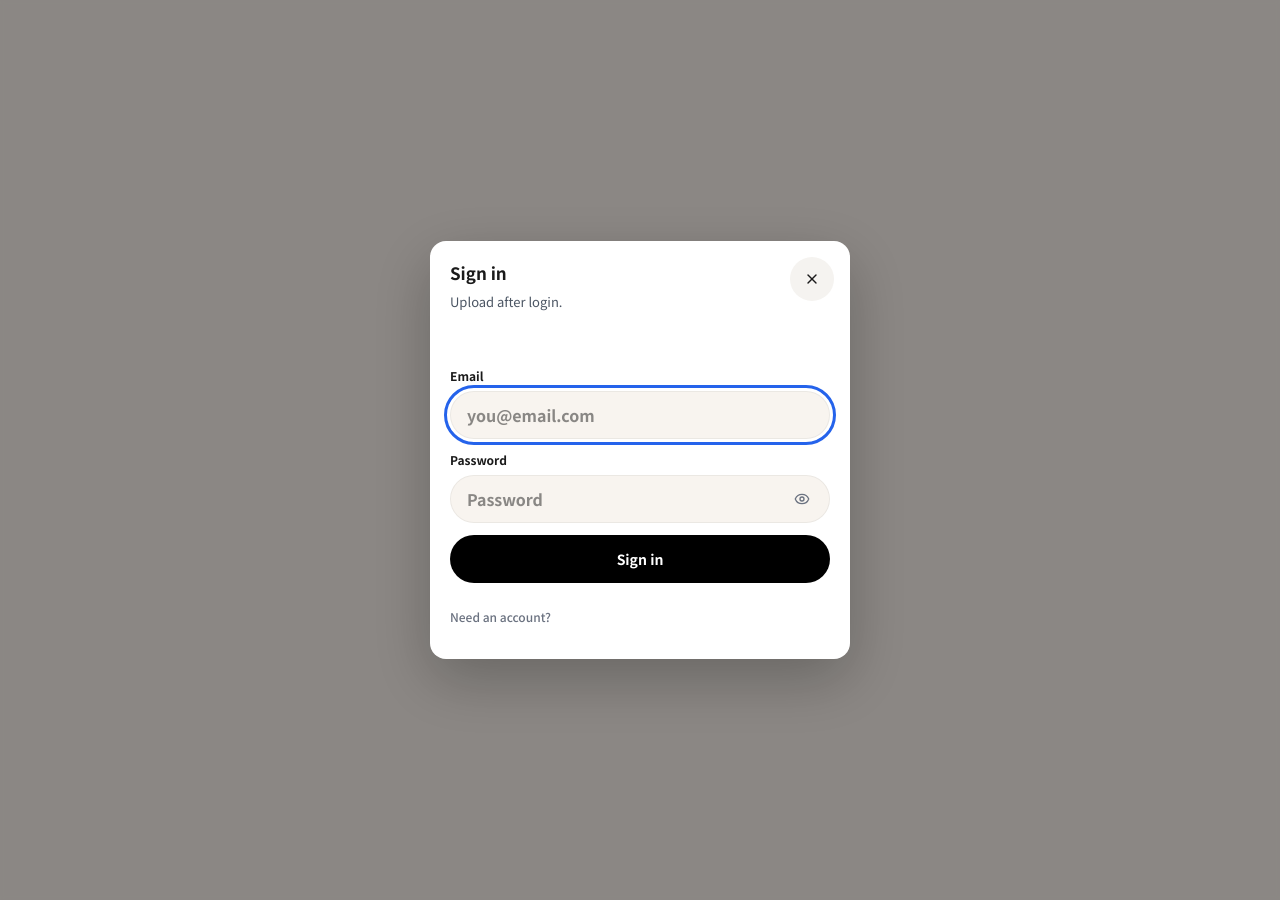
Test: LoginGateDialog focus stability › does not remount email when toggling password visibility
The image size is (1280, 900).
Type "a@b.co" into the field labelled "Email".
click(640, 415); type("a@b.co")  # box [450,391,830,439]
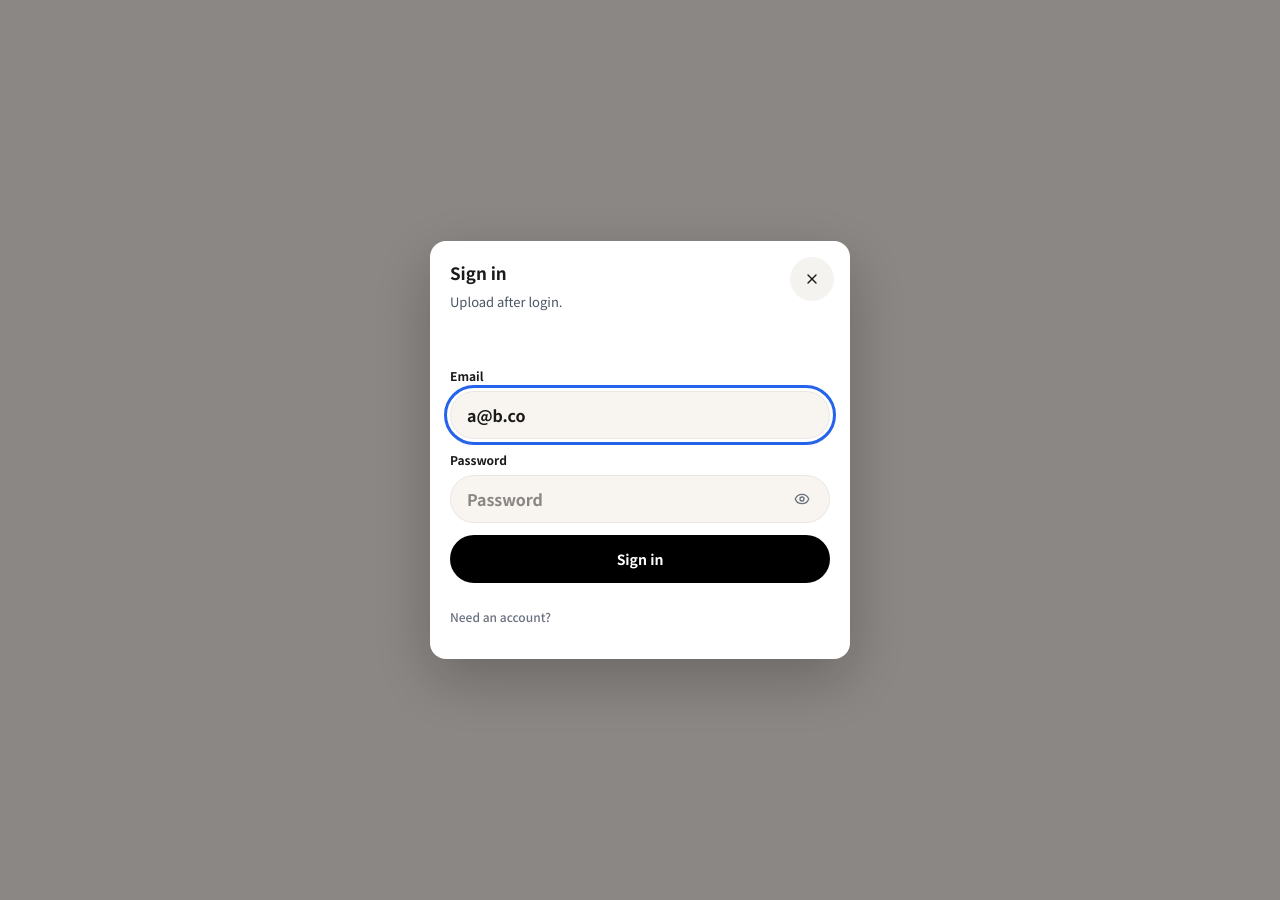
Type "secret1" into the password field labelled "Password".
click(640, 499); type("secret1")  # box [450,475,830,523]
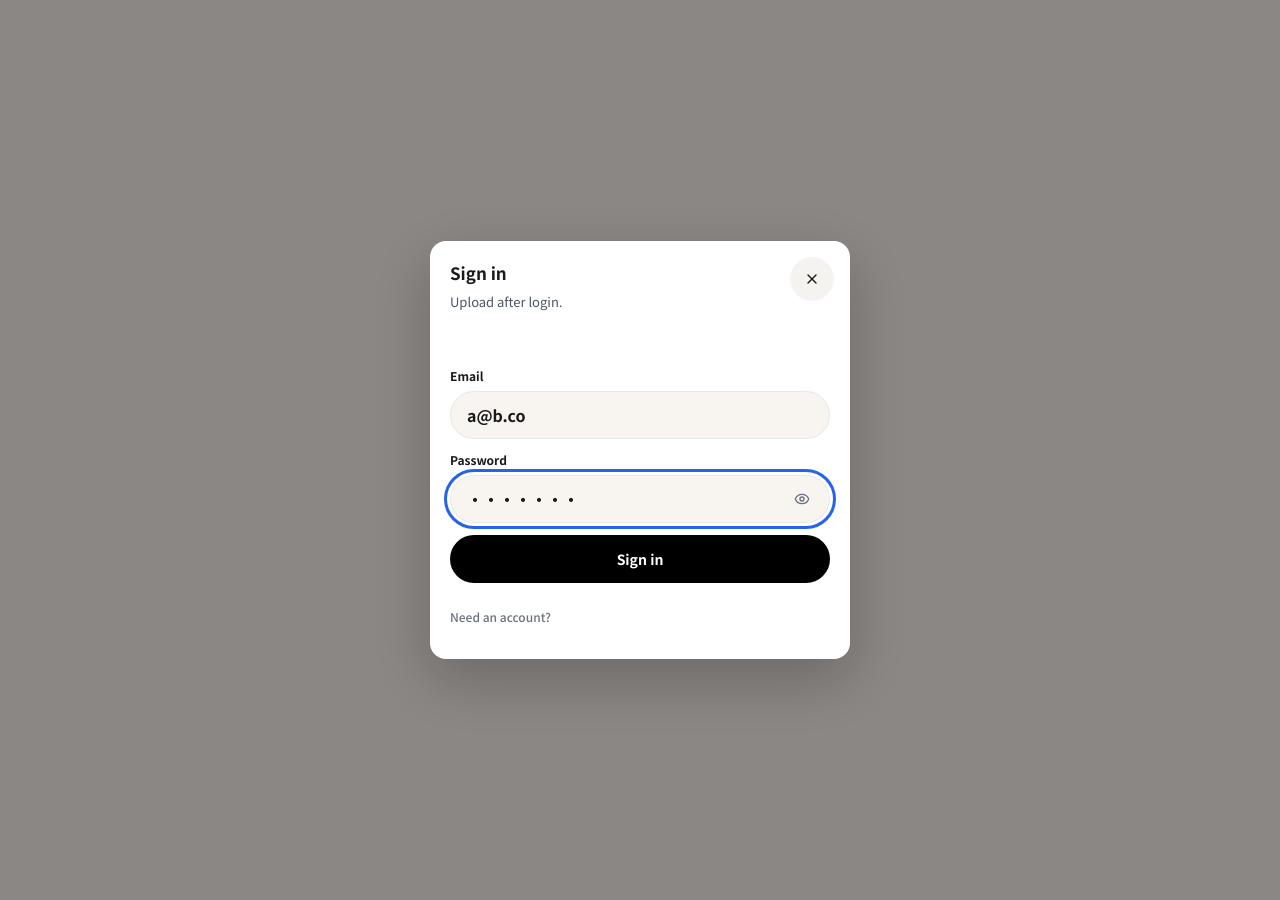
Click the button named "Show password".
click(802, 499)  # box [780,477,824,521]
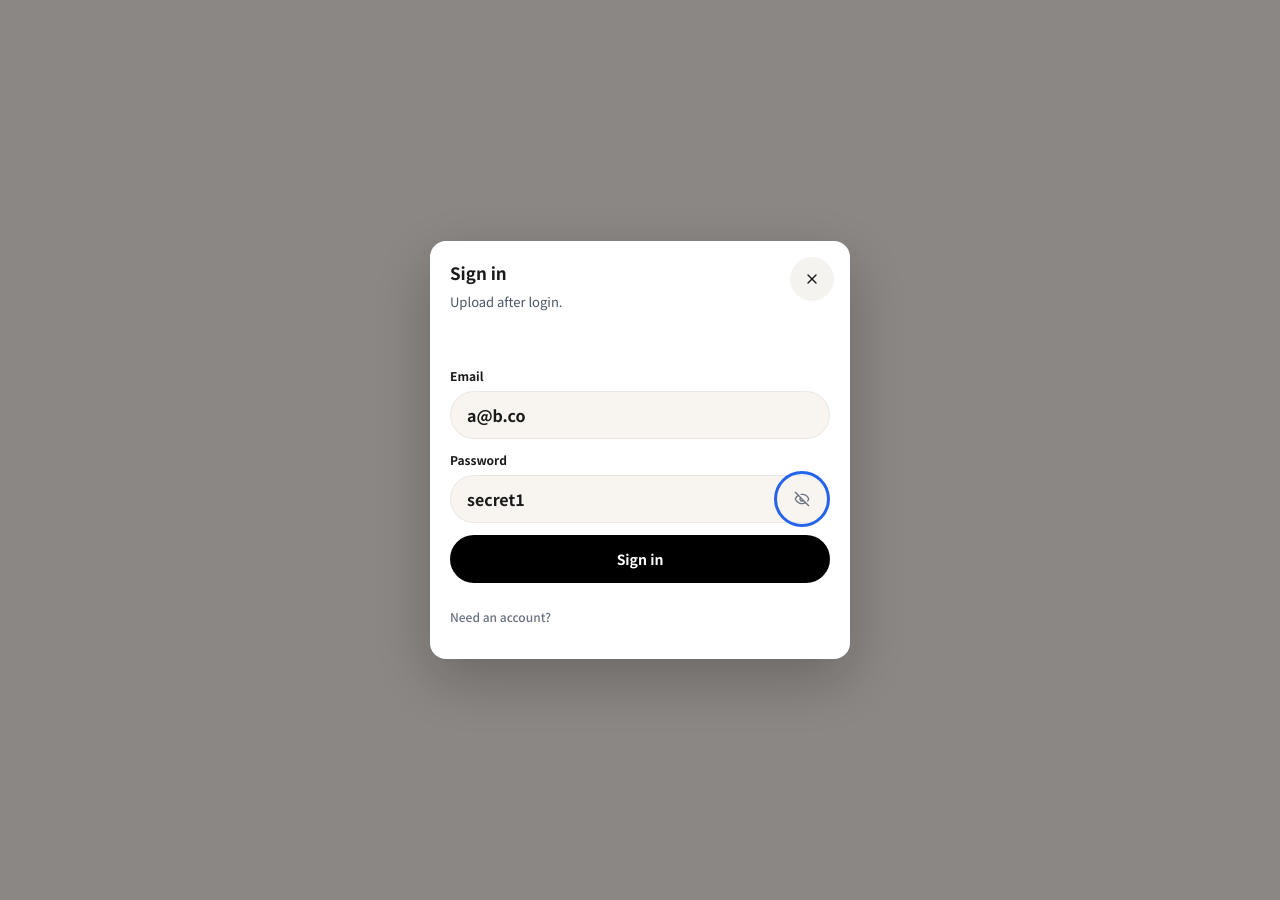
Check: the field labelled "Password" shows its text, box [450,475,830,523]
Click the button named "Hide password".
click(802, 499)  # box [780,477,824,521]
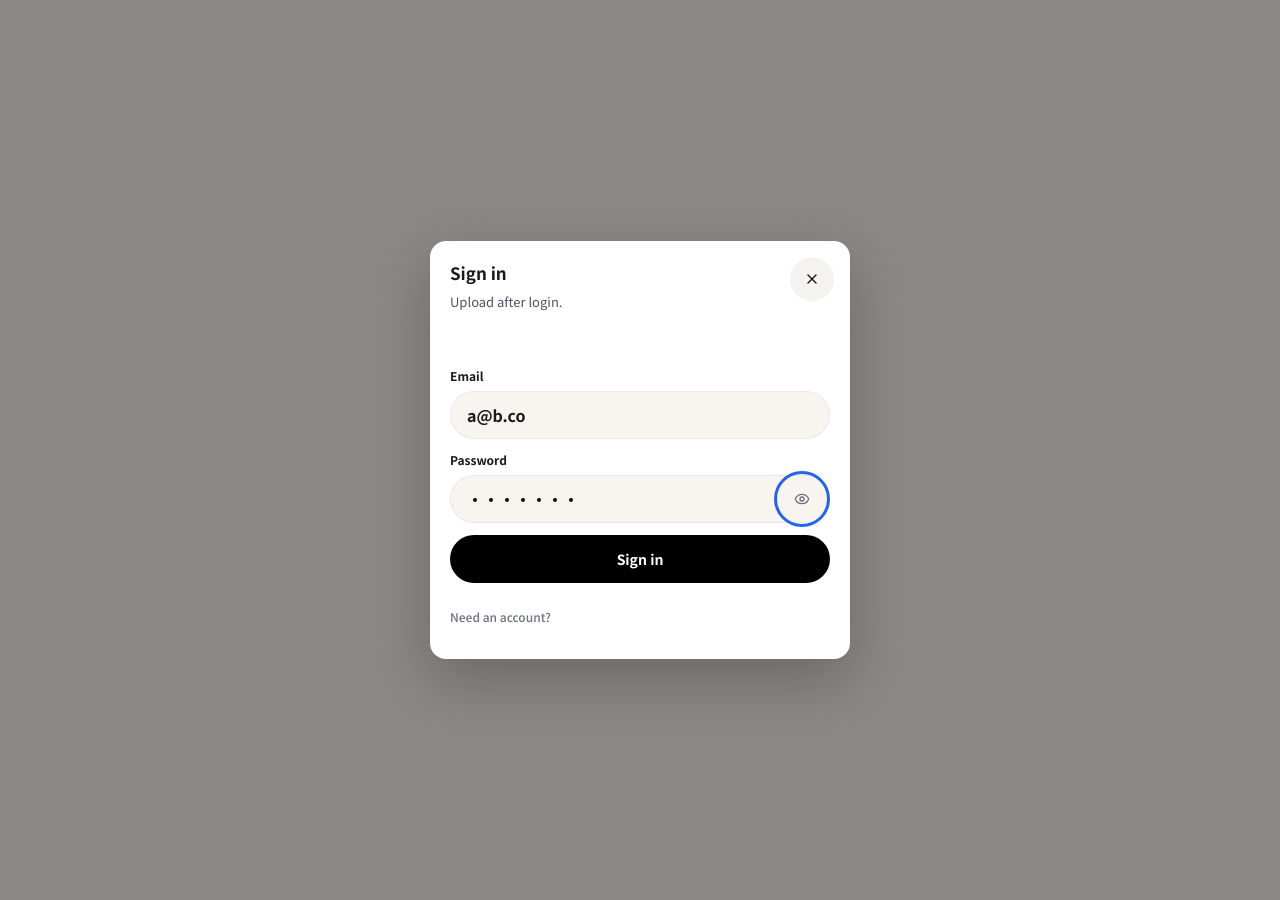
Check: the password field labelled "Password" hides its text, box [450,475,830,523]
